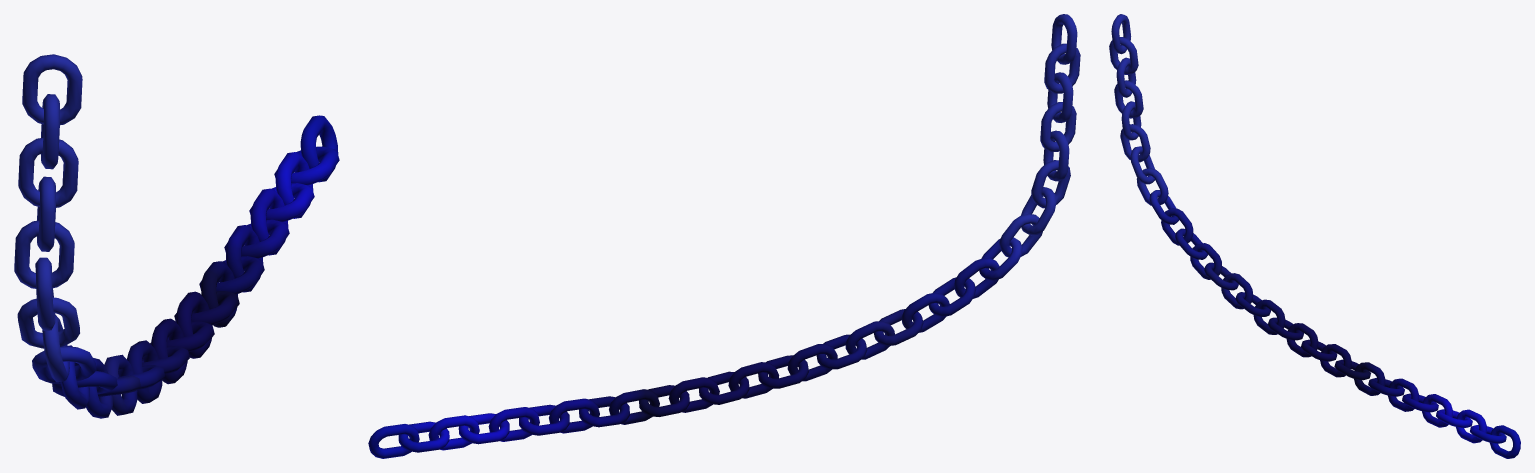
File: SM_Chains_001.fbx
3 views of the same model, side by side, from view 1: azimuth 30°, elevation 25°; view 2: azimuth 150°, elevation 25°; view 3: azimuth 270°, elevation 25° (orthographic). The views are drawn at different scales.
Parts seen in each view (by area): view 1: Chains 1; view 2: Chains 1; view 3: Chains 1.
Boxes of the visible parts, x1,y1,x2,y2 form: Chains 1: [14, 54, 339, 418]; Chains 1: [368, 14, 1080, 458]; Chains 1: [1109, 14, 1520, 458].
Bounding box in the file's own units: 5781 × 4417 × 5872.
